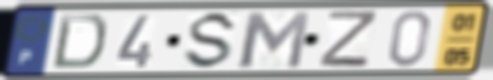0: (386, 9, 434, 69)
4: (115, 13, 155, 69)
D: (49, 12, 110, 72)
M: (236, 10, 313, 70)
S: (180, 9, 242, 72)
Z: (316, 9, 381, 70)
